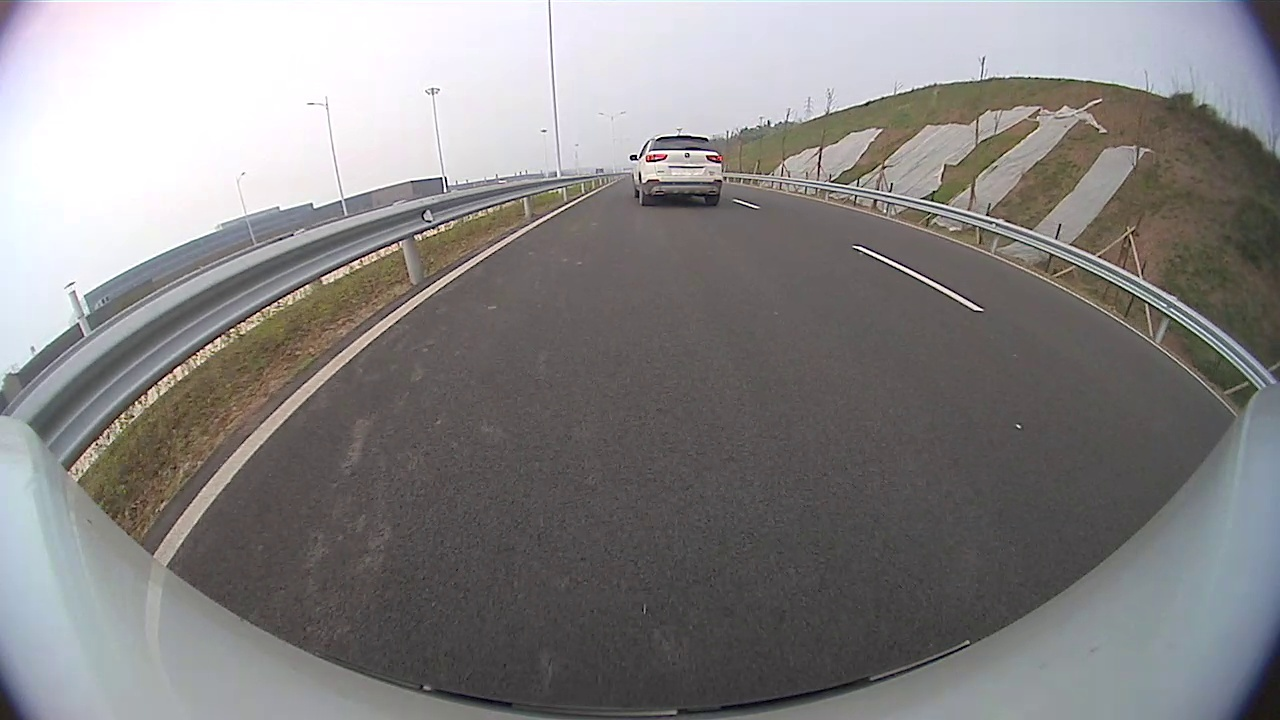car: (629, 133, 724, 206)
rear: (636, 177, 649, 206)
